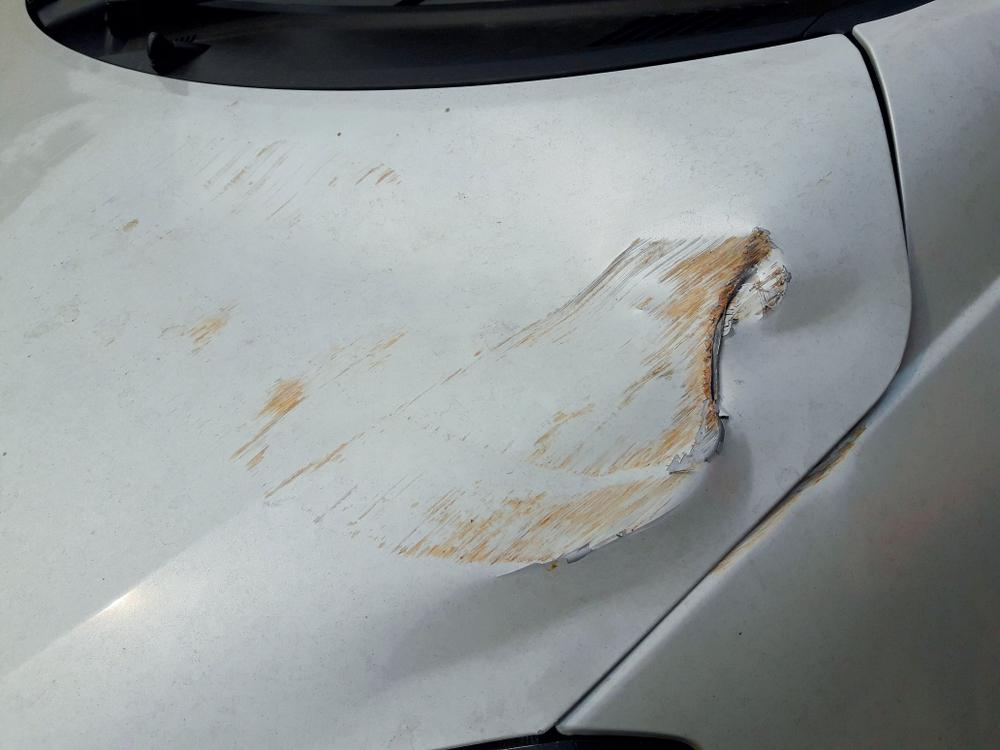dent: (389, 254, 899, 708)
scratch: (66, 129, 794, 567)
